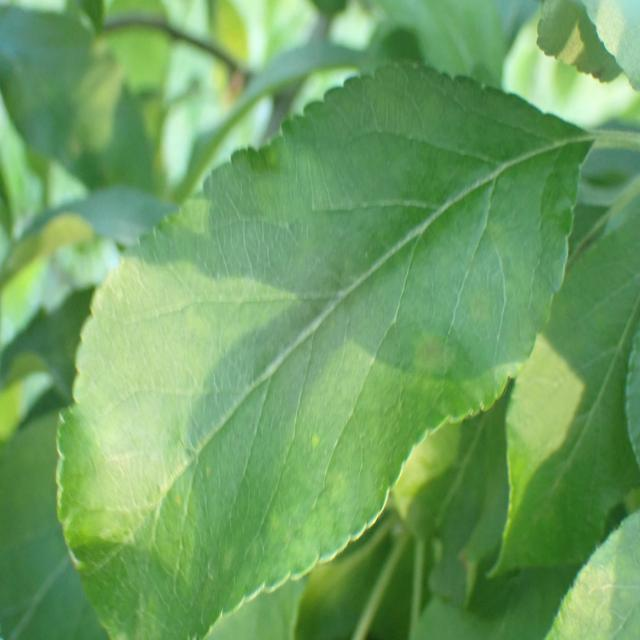scab: (61, 84, 578, 514)
